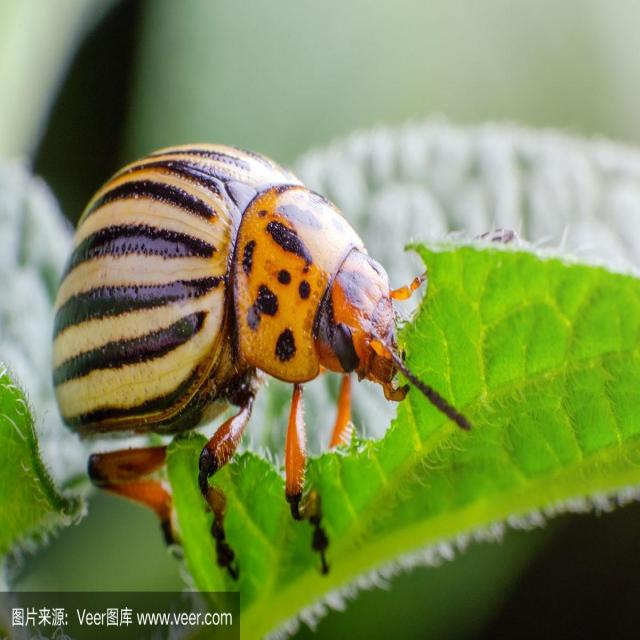ShuCaiHuaBanChong-Grown-: (42, 134, 415, 500)
